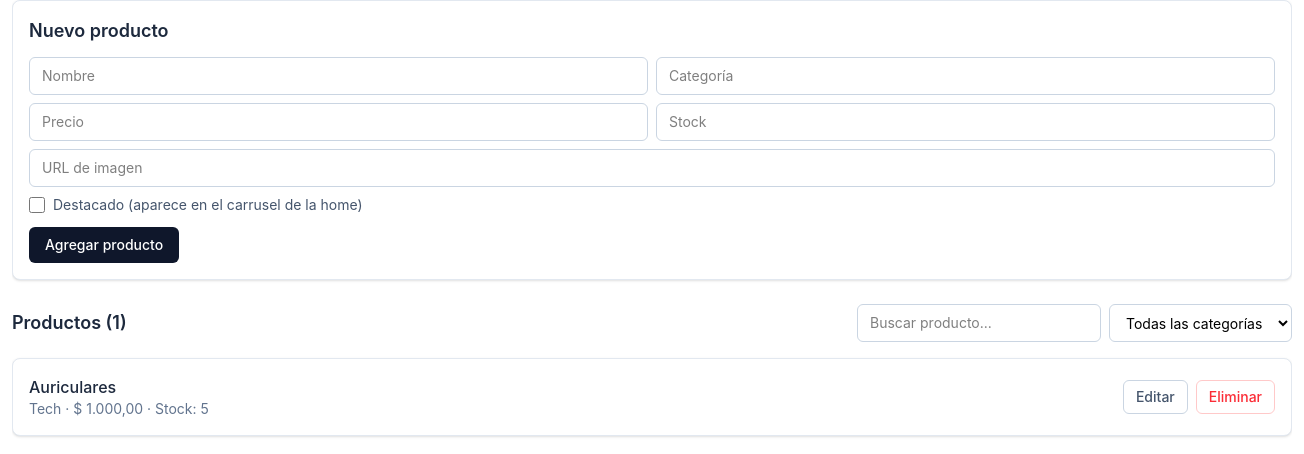
AdminProducts › muestra una notificación de error si falla la eliminación
This screenshot has width=1304, height=454.
What coordinates should you click on to do the following:
click the button "Eliminar"
I would click on:
 (1235, 397)
Its box is [1196, 380, 1275, 414].
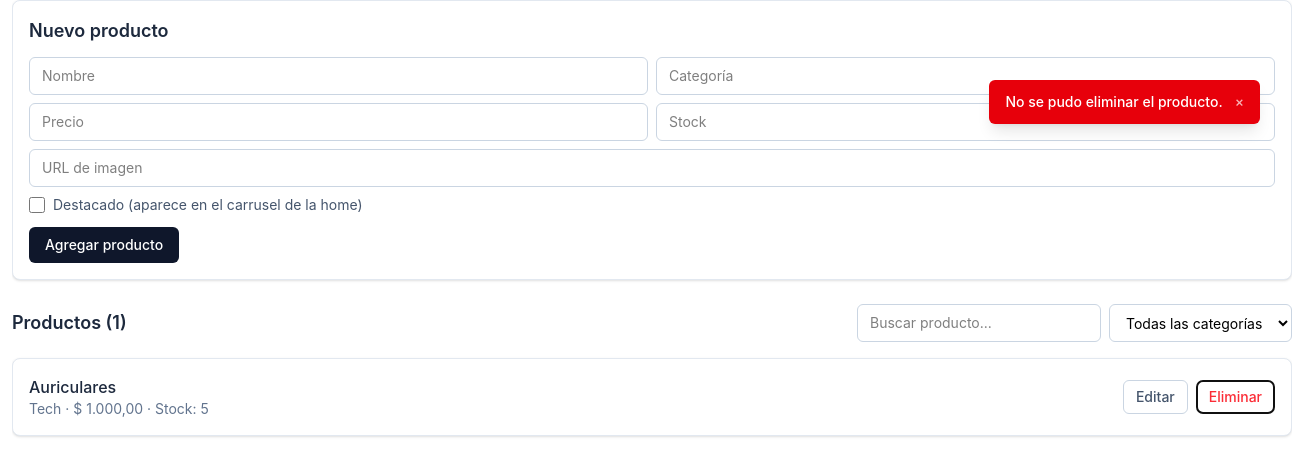
Expected: the text "Auriculares" is shown, [29, 377, 116, 397]
Result: the text "No se pudo eliminar el producto." is shown at [1006, 92, 1223, 112]
